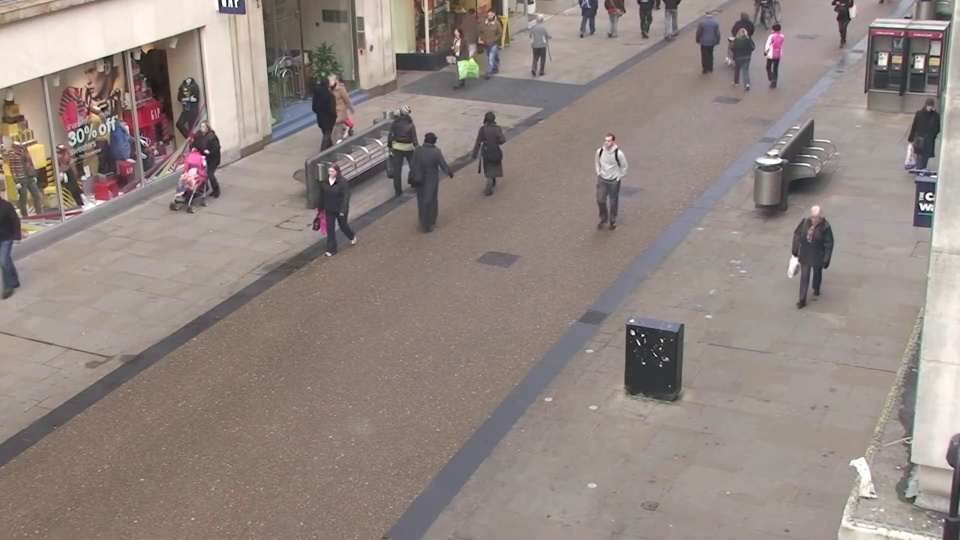pedestrian: (786, 203, 830, 323), (902, 96, 947, 191), (310, 159, 349, 266), (182, 120, 220, 215), (586, 135, 619, 236), (420, 123, 454, 221), (477, 103, 509, 195), (397, 97, 429, 187), (317, 72, 347, 155), (760, 19, 787, 90), (725, 22, 751, 94), (443, 27, 469, 97), (731, 7, 756, 75), (696, 7, 720, 74), (478, 9, 502, 75), (464, 3, 488, 67), (530, 10, 553, 76)
